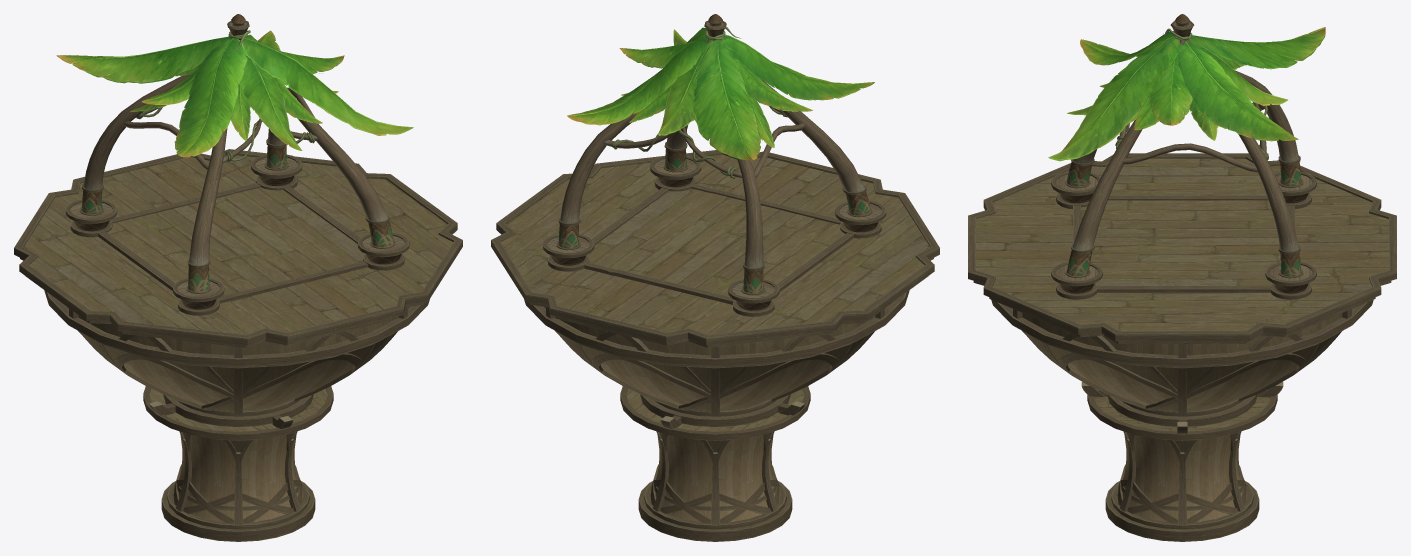
File: Homeworld_Exterior_Xm_Build_House_05_Lod0.fbx
3 views of the same model, side by side, from view 1: azimuth 30°, elevation 25°; view 2: azimuth 150°, elevation 25°; view 3: azimuth 270°, elevation 25° (orthographic).
Visible parts, largest first — view 1: Homeworld_Exterior_Xm_Build_House_05_Lod0, Homeworld_Exterior_Xm_Build_House_05_01_Lod0; view 2: Homeworld_Exterior_Xm_Build_House_05_Lod0, Homeworld_Exterior_Xm_Build_House_05_01_Lod0; view 3: Homeworld_Exterior_Xm_Build_House_05_Lod0, Homeworld_Exterior_Xm_Build_House_05_01_Lod0.
Boxes of the visible parts, x1,y1,x2,y2 form: Homeworld_Exterior_Xm_Build_House_05_Lod0: (14,14,462,541); Homeworld_Exterior_Xm_Build_House_05_01_Lod0: (56,30,413,157); Homeworld_Exterior_Xm_Build_House_05_Lod0: (491,14,939,541); Homeworld_Exterior_Xm_Build_House_05_01_Lod0: (567,27,874,160); Homeworld_Exterior_Xm_Build_House_05_Lod0: (968,14,1396,541); Homeworld_Exterior_Xm_Build_House_05_01_Lod0: (1048,27,1325,161).
Bounding box in the file's own units: 11.84 × 15.1 × 11.84.
